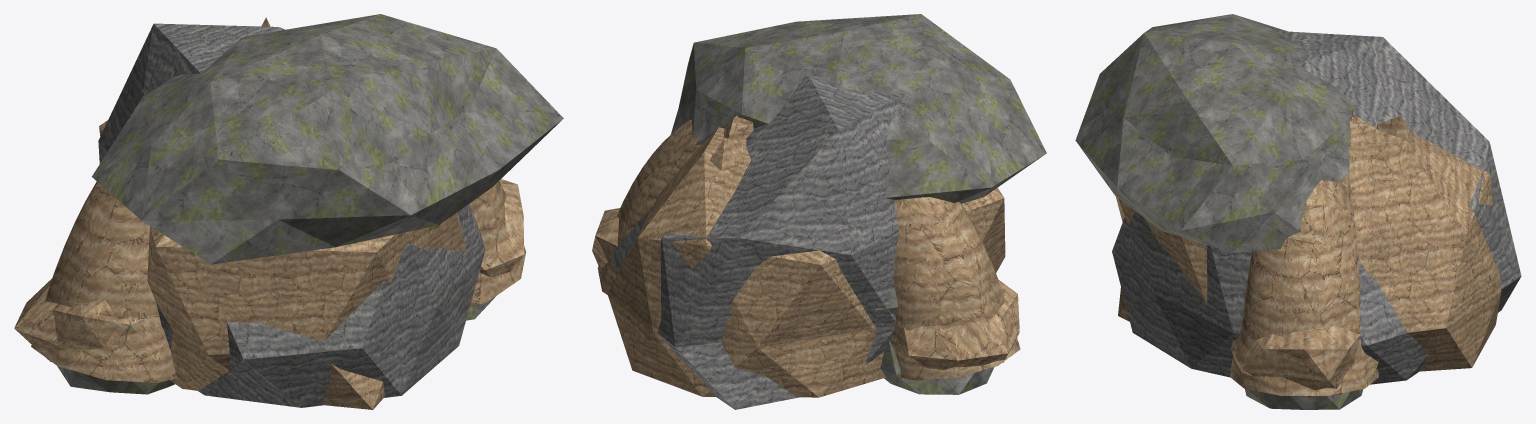
Rendered from Skaly.glb.
3 renders of one model, left to right at view 1: azimuth 30°, elevation 25°; view 2: azimuth 150°, elevation 25°; view 3: azimuth 270°, elevation 25°, orthographic. The views are drawn at different scales.
Parts seen in each view (by area): view 1: jaskinia__rock, blok_klifu_szary__cliff_grey, blok_klifu__cliff, luk_skalny__cliff; view 2: blok_klifu_szary__cliff_grey, jaskinia__rock, blok_klifu__cliff, luk_skalny__cliff, skaly_morskie__cliff; view 3: jaskinia__rock, blok_klifu_szary__cliff_grey, blok_klifu__cliff, luk_skalny__cliff, skaly_morskie__cliff.
Part boxes in pixels (bbox=[...]): jaskinia__rock: bbox=[57, 14, 563, 394]; blok_klifu_szary__cliff_grey: bbox=[98, 23, 485, 407]; blok_klifu__cliff: bbox=[99, 120, 466, 409]; luk_skalny__cliff: bbox=[14, 179, 525, 382]; blok_klifu_szary__cliff_grey: bbox=[611, 76, 904, 409]; jaskinia__rock: bbox=[671, 14, 1046, 394]; blok_klifu__cliff: bbox=[607, 126, 1005, 397]; luk_skalny__cliff: bbox=[592, 119, 1020, 380]; skaly_morskie__cliff: bbox=[709, 115, 753, 170]; jaskinia__rock: bbox=[1075, 14, 1363, 409]; blok_klifu_szary__cliff_grey: bbox=[1112, 31, 1521, 384]; blok_klifu__cliff: bbox=[1116, 127, 1501, 371]; luk_skalny__cliff: bbox=[1230, 174, 1378, 397]; skaly_morskie__cliff: bbox=[1349, 114, 1414, 143].
Size of the model in its own units: 23.81 by 15.75 by 21.77.
8 materials, 7 textured.
